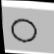no answer: (5, 14, 44, 45)
